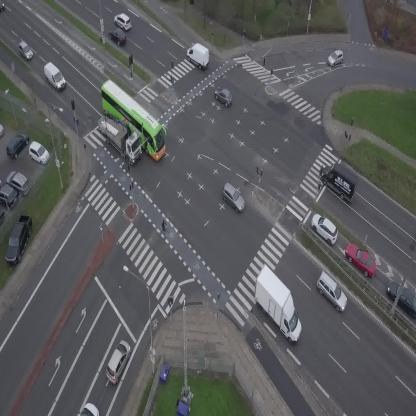bicycle: (158, 219, 170, 238)
bus: (87, 77, 177, 163)
car: (310, 270, 353, 314), (340, 238, 382, 281), (101, 338, 135, 386), (306, 210, 343, 247), (217, 181, 250, 213), (211, 84, 237, 109), (105, 24, 130, 49), (111, 10, 135, 33), (14, 40, 35, 63), (325, 48, 347, 68), (78, 403, 99, 416)
lorry: (239, 263, 319, 346), (88, 104, 151, 165), (315, 159, 365, 205), (183, 39, 215, 71), (39, 61, 70, 91)
